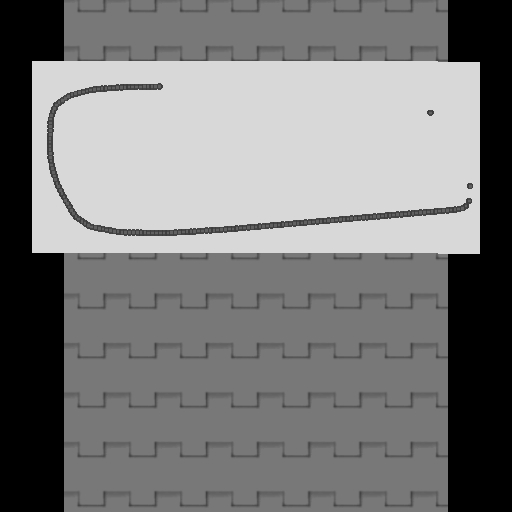Defect: (160, 78, 429, 115)
